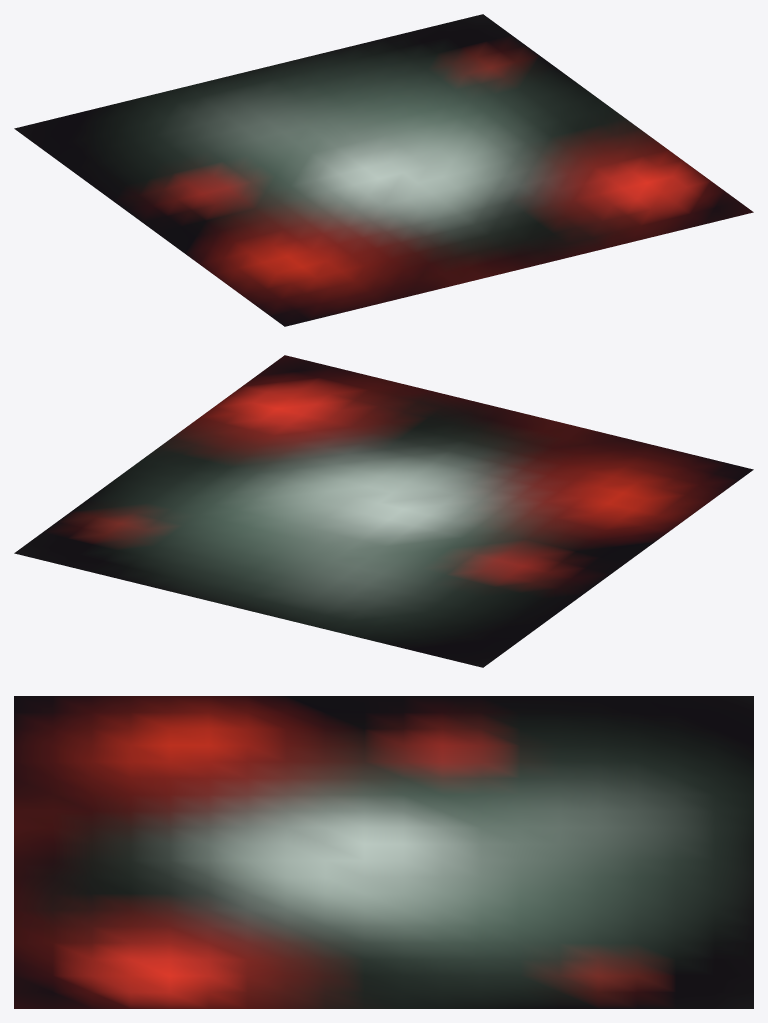
Rendered from level.glb.
3 renders of one model, top to bottom at view 1: azimuth 30°, elevation 25°; view 2: azimuth 150°, elevation 25°; view 3: azimuth 270°, elevation 25°, orthographic. The views are drawn at different scales.
Parts seen in each view (by area): view 1: ground; view 2: ground; view 3: ground.
Part boxes in pixels (x1=…): ground: x1=14, y1=14, x2=753, y2=326; ground: x1=14, y1=355, x2=753, y2=667; ground: x1=14, y1=696, x2=753, y2=1008.
Size of the model in its own units: 19 by 0 by 19.
